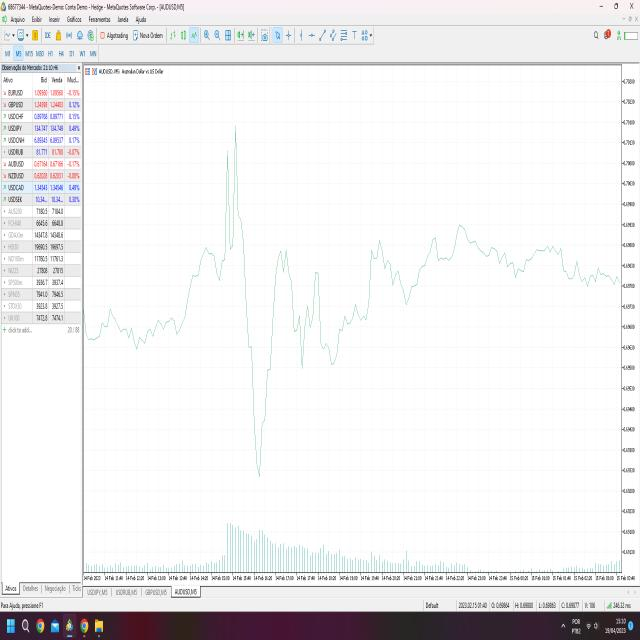oco_inv: (288, 272, 318, 380)
topo_duplo: (218, 91, 248, 291)
